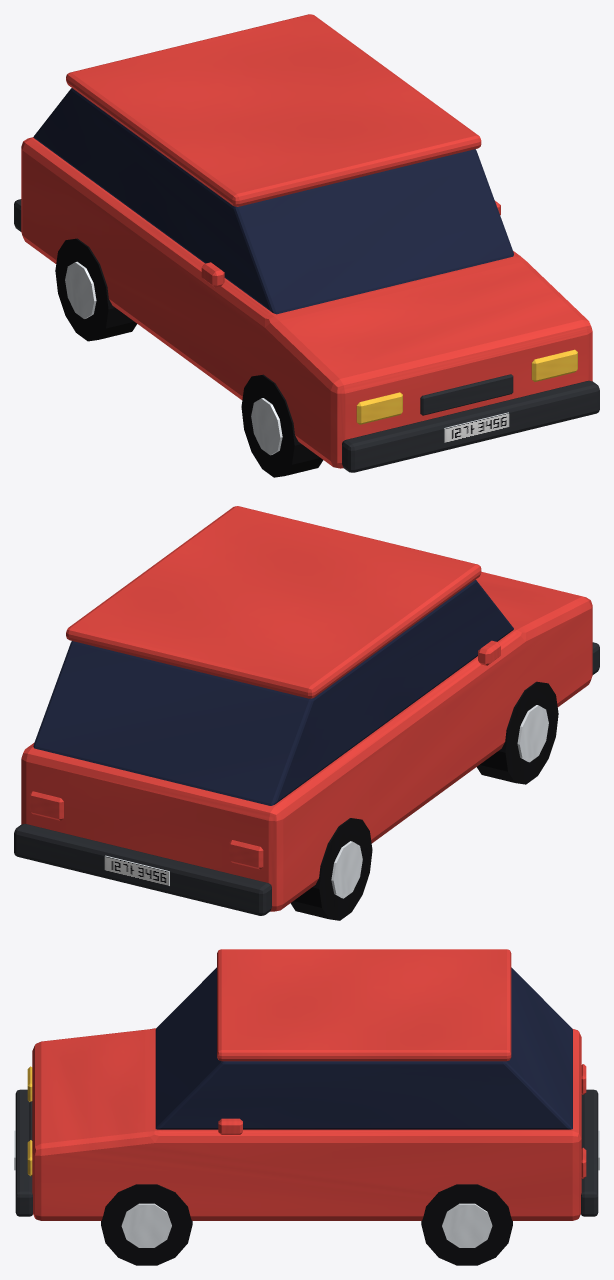
The model's file is ParkedCar_Compact.glb.
3 renders of one model, top to bottom at view 1: azimuth 30°, elevation 25°; view 2: azimuth 150°, elevation 25°; view 3: azimuth 270°, elevation 25°, orthographic. The views are drawn at different scales.
Parts seen in each view (by area): view 1: Body, Glass, Details, Wheels; view 2: Body, Glass, Details, Wheels; view 3: Body, Glass, Wheels, Details.
Boxes of the visible parts, x1,y1,x2,y2 form: Body: (21,14,592,468); Glass: (33,88,513,314); Details: (14,199,599,472); Wheels: (55,238,323,477); Body: (21,506,592,911); Glass: (33,580,513,805); Details: (14,640,599,915); Wheels: (290,681,558,920); Body: (32,949,581,1220); Glass: (155,967,572,1129); Wheels: (101,1184,512,1265); Details: (14,1064,599,1216).
Bounding box in the file's own units: 1.88 × 1.52 × 3.84.
Materials: 1 (1 with a texture image).
